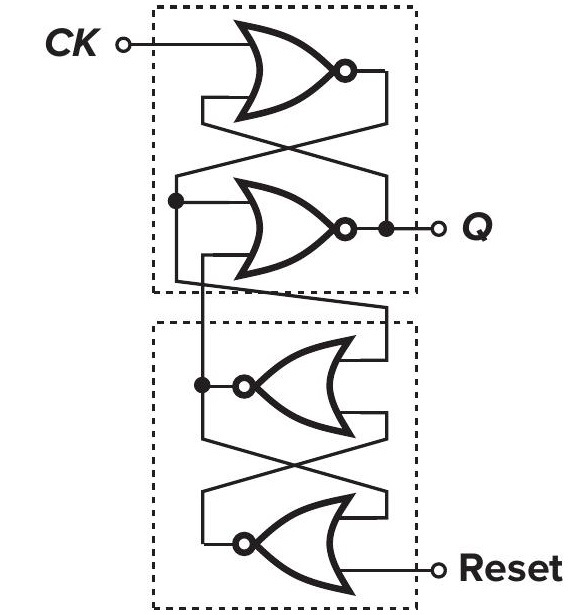or: (227, 13, 362, 126), (227, 489, 362, 599), (227, 173, 362, 283), (226, 331, 362, 440)
